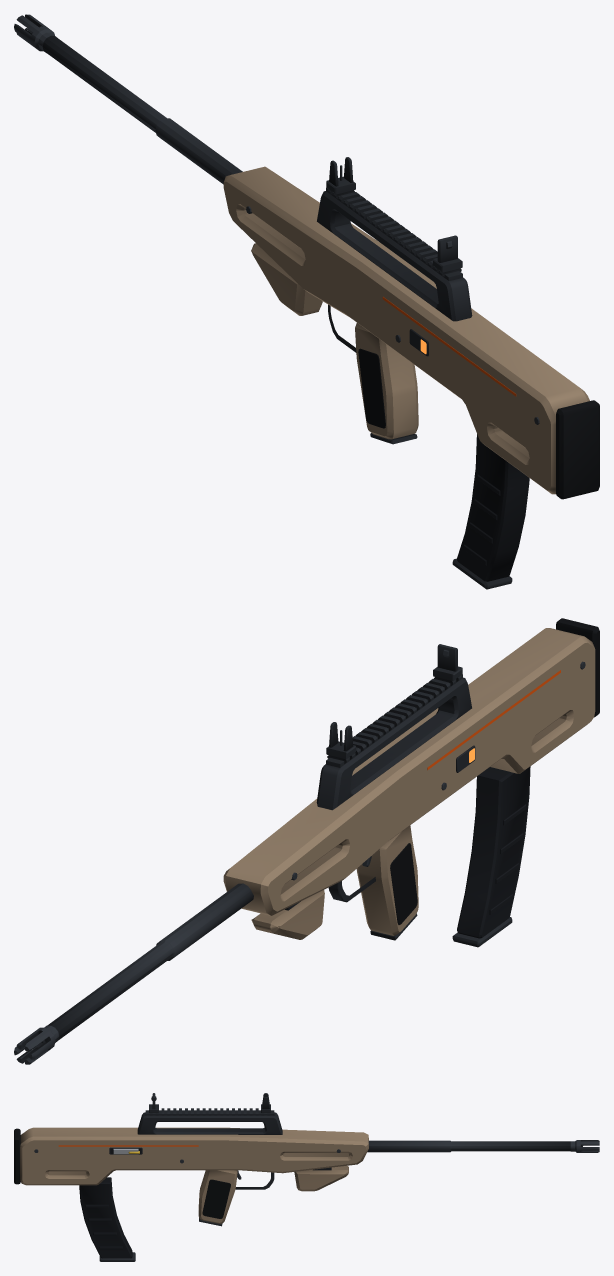
File: qbz-95.glb
3 renders of one model, top to bottom at view 1: azimuth 30°, elevation 25°; view 2: azimuth 150°, elevation 25°; view 3: azimuth 270°, elevation 25°, orthographic. The views are drawn at different scales.
Visible parts, largest first — view 1: body_furn, body_frame2, mag_polymer, body_steel, body_rubber; view 2: body_furn, body_frame2, mag_polymer, body_steel, body_rubber; view 3: body_furn, body_frame2, body_steel, mag_polymer, body_rubber, body_accent.
Boxes of the visible parts, x1,y1,x2,y2 form: body_furn: (223, 166, 589, 494); body_frame2: (317, 157, 472, 444); mag_polymer: (457, 434, 529, 581); body_steel: (14, 14, 539, 424); body_rubber: (358, 348, 599, 499); body_furn: (223, 628, 595, 939); body_frame2: (285, 644, 475, 940); mag_polymer: (457, 766, 530, 938); body_steel: (14, 649, 585, 1064); body_rubber: (390, 618, 599, 924); body_furn: (20, 1127, 368, 1223); body_frame2: (109, 1093, 331, 1226); body_steel: (34, 1096, 599, 1179); mag_polymer: (79, 1177, 132, 1258); body_rubber: (14, 1128, 230, 1218); body_accent: (58, 1145, 198, 1146).
Bounding box in the file's own units: 0.0555 × 0.3223 × 1.05.
